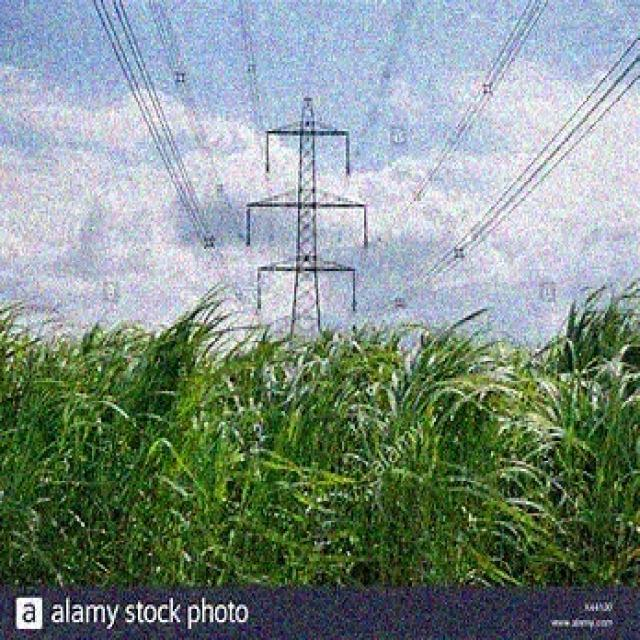utility poles: (227, 63, 386, 589)
